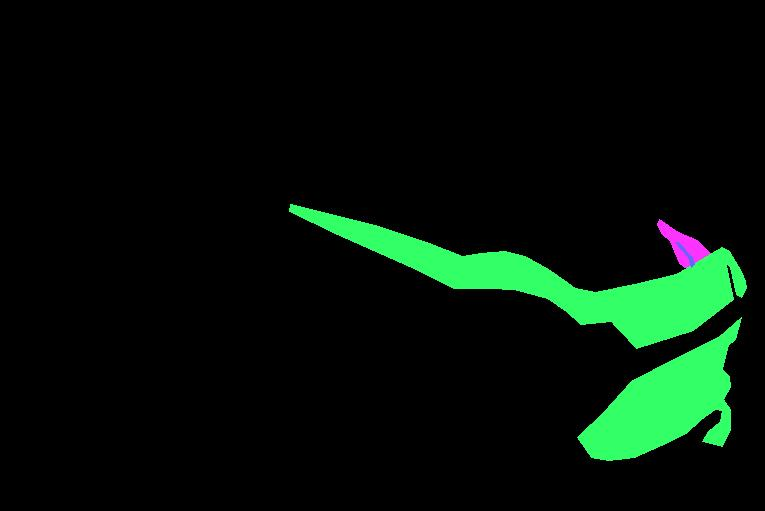Broken part: (289, 204, 718, 324), (577, 317, 741, 460), (605, 251, 733, 348), (715, 247, 746, 297)
Dent: (657, 219, 712, 272)
Scratch: (675, 242, 694, 267)
